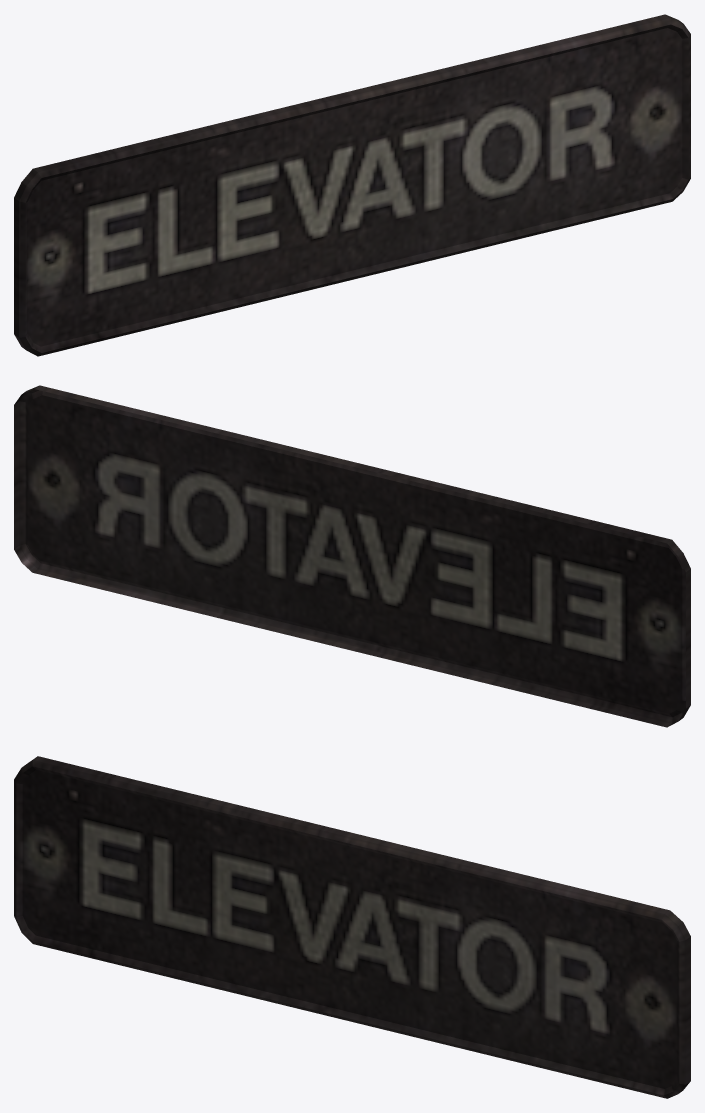
File: elevator_sign_1.obj
3 views of the same model, one above another, from view 1: azimuth 30°, elevation 25°; view 2: azimuth 150°, elevation 25°; view 3: azimuth 330°, elevation 25° (orthographic).
Parts seen in each view (by area): view 1: elevator_sign_1; view 2: elevator_sign_1; view 3: elevator_sign_1.
Boxes of the visible parts, box(x1,y1,x2,y2) form: elevator_sign_1: box(14, 14, 690, 356); elevator_sign_1: box(14, 385, 690, 727); elevator_sign_1: box(14, 756, 690, 1098).
Bounding box in the file's own units: 0.7635 × 0.2 × 0.014.
